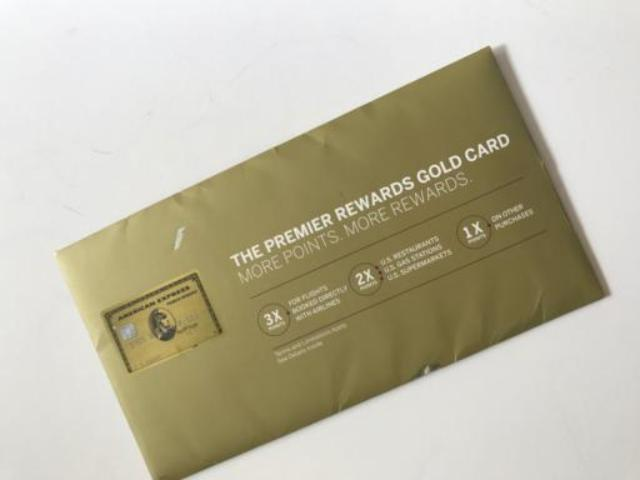cardboard paper: (55, 46, 604, 475)
